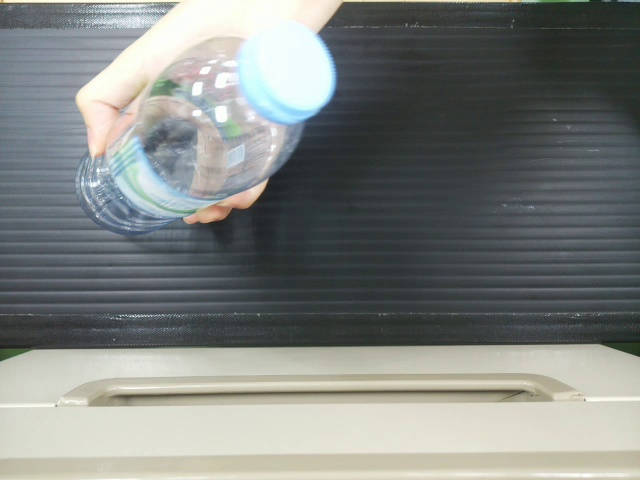bottle: (70, 29, 340, 228)
